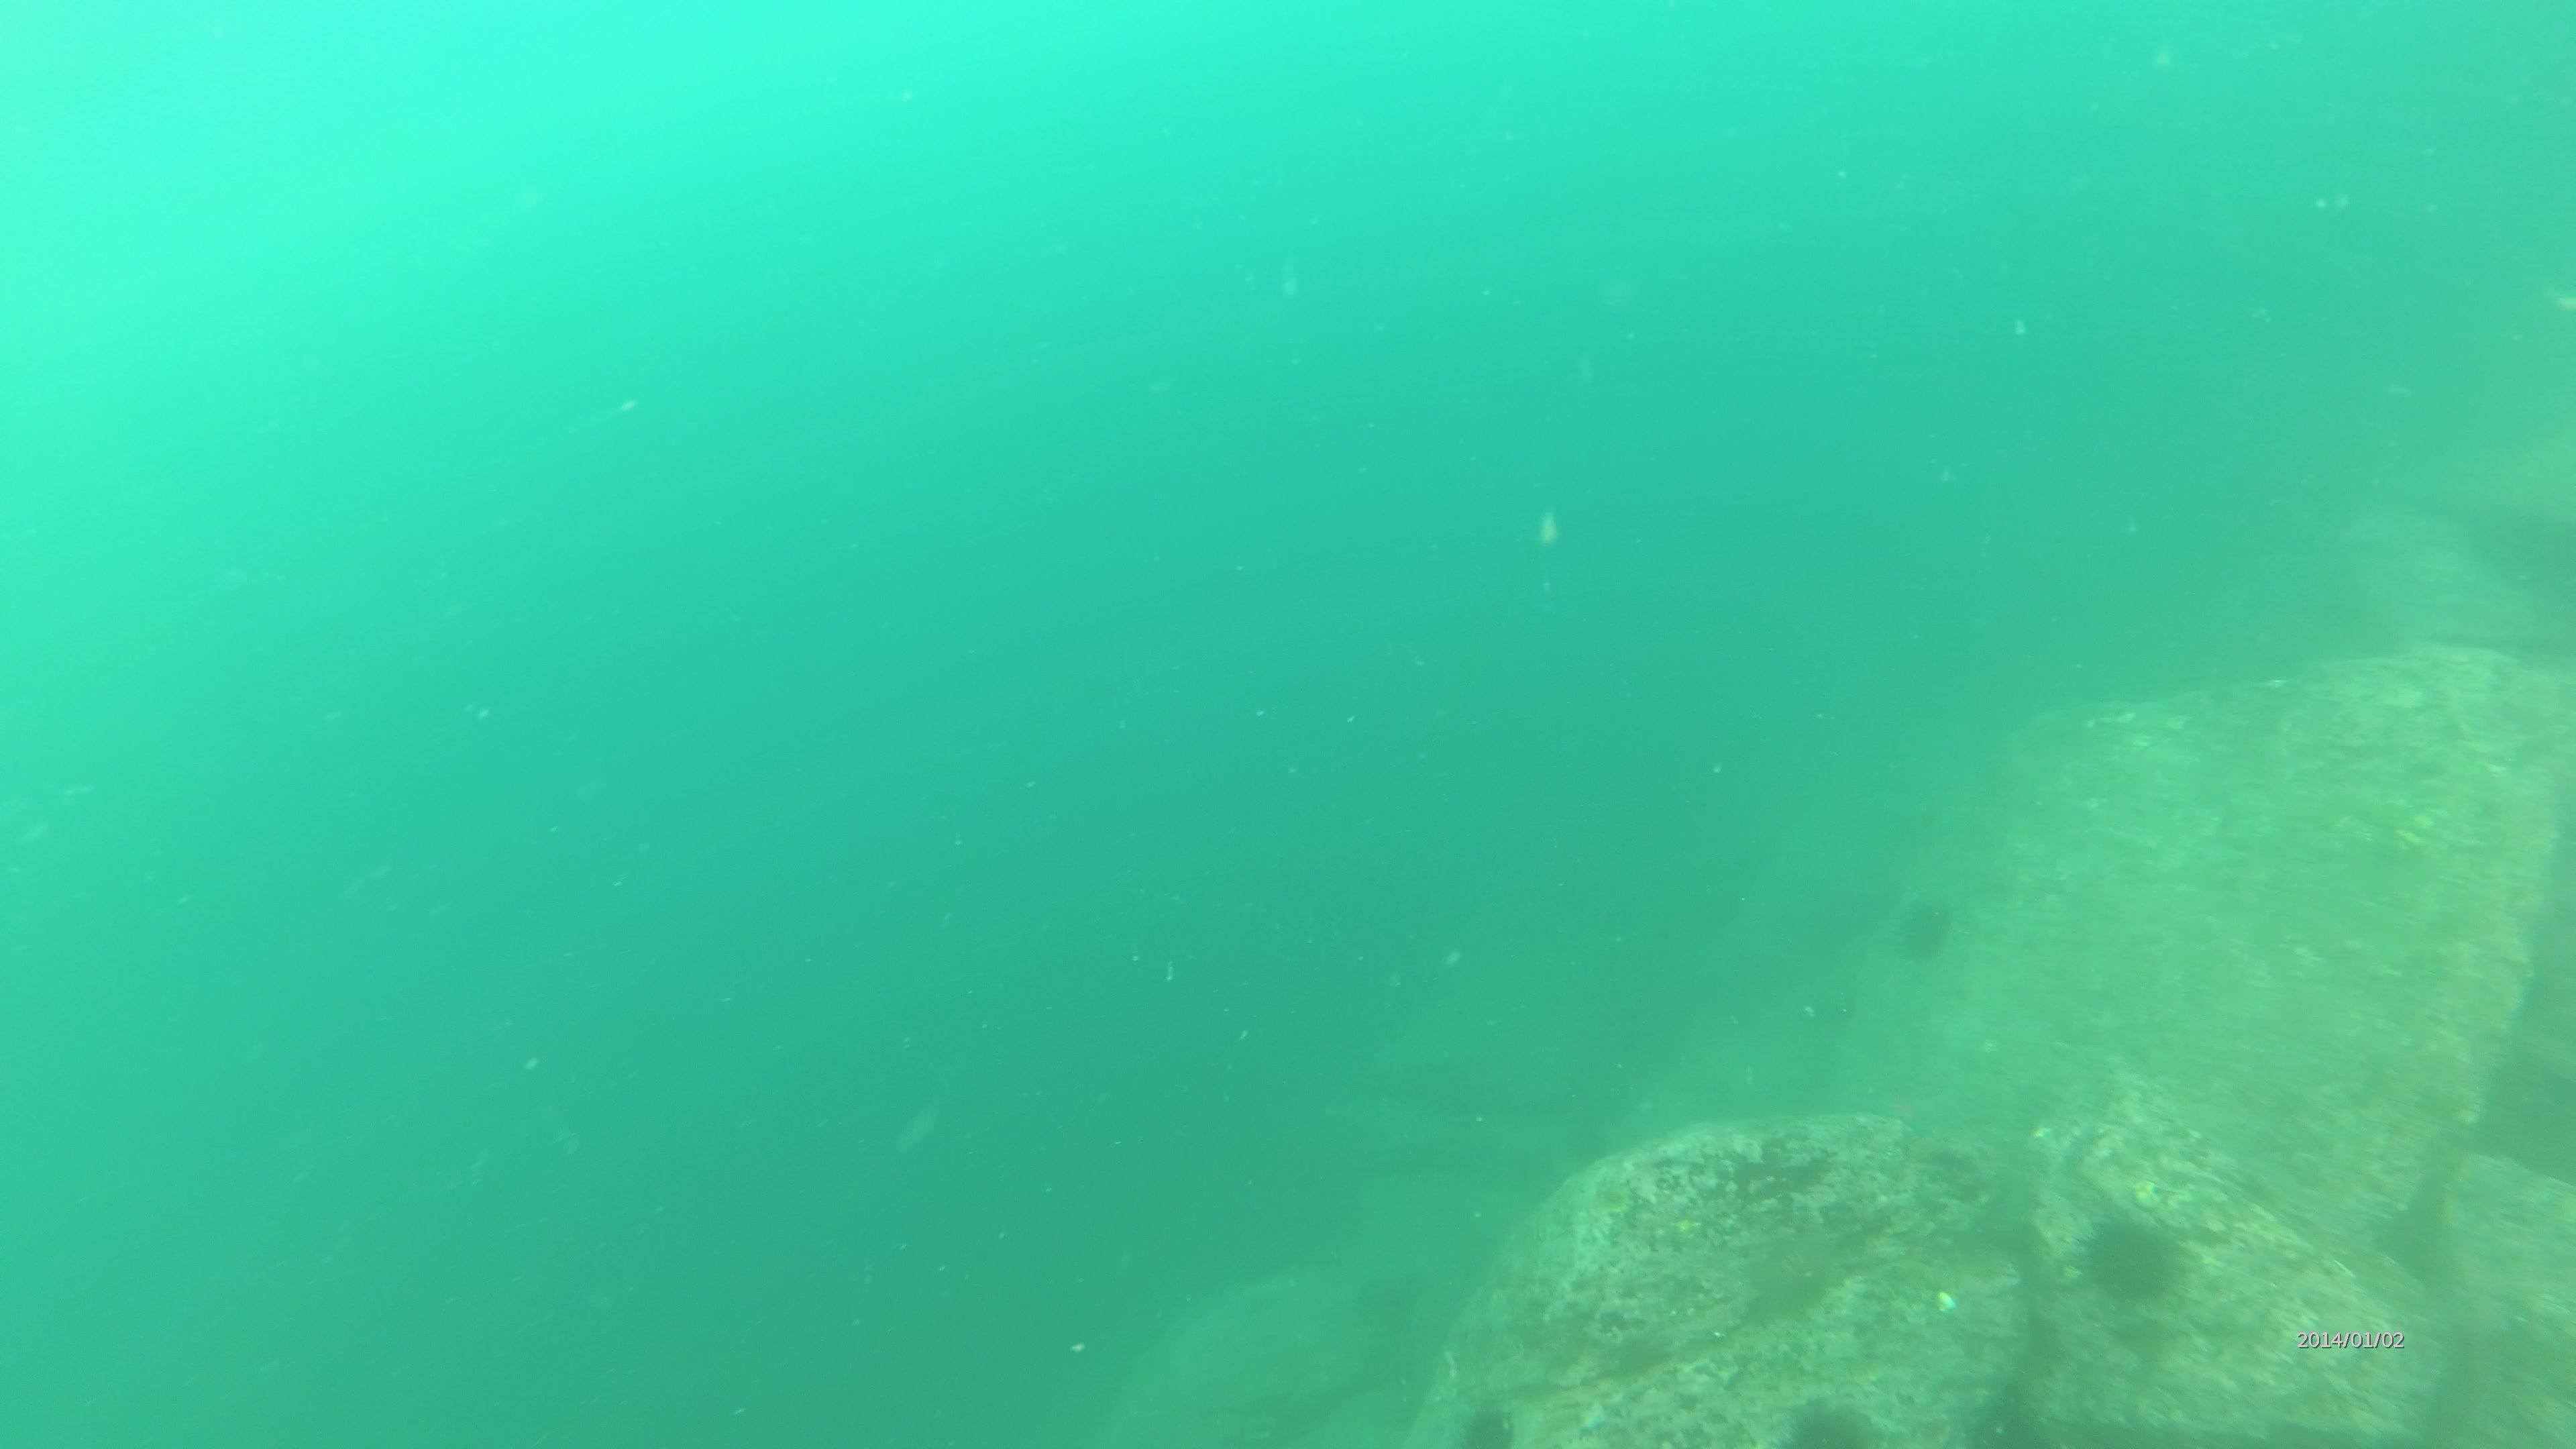echinus: (2081, 1200, 2196, 1322), (1776, 1392, 1886, 1449), (1895, 892, 1960, 959), (1458, 1403, 1522, 1449)
